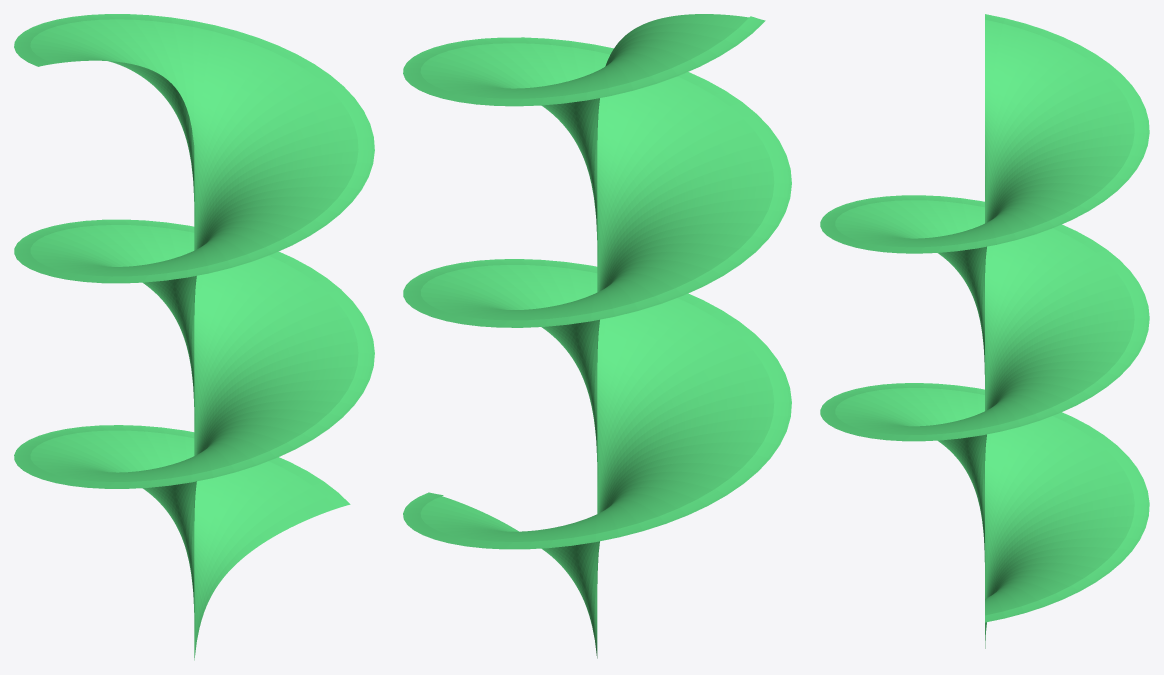
Rendered from dini.glb.
3 renders of one model, left to right at view 1: azimuth 30°, elevation 25°; view 2: azimuth 150°, elevation 25°; view 3: azimuth 270°, elevation 25°, orthographic. The views are drawn at different scales.
Visible parts, largest first — view 1: dini; view 2: dini; view 3: dini.
Part boxes in pixels (left/top/right/bottom): dini: left=14, top=14, right=374, bottom=660; dini: left=403, top=14, right=791, bottom=658; dini: left=820, top=14, right=1149, bottom=648.
Bounding box in the file's own units: 1.95 × 3.78 × 1.95.
